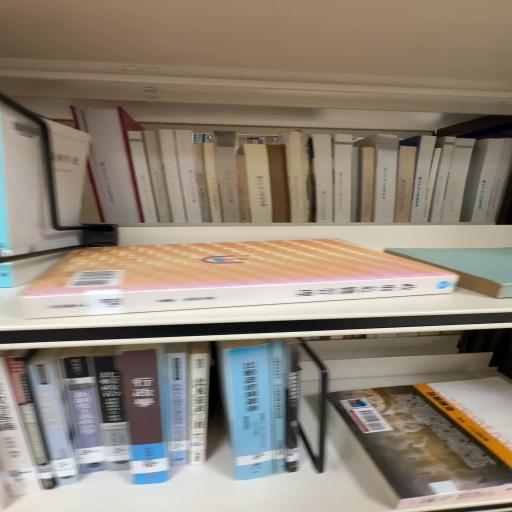flat: (22, 240, 459, 319)
